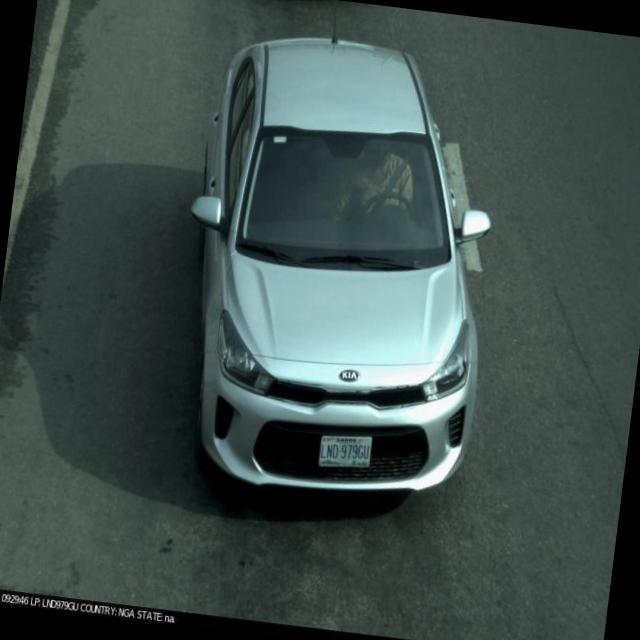person_with_seatbelt: (329, 125, 438, 258)
